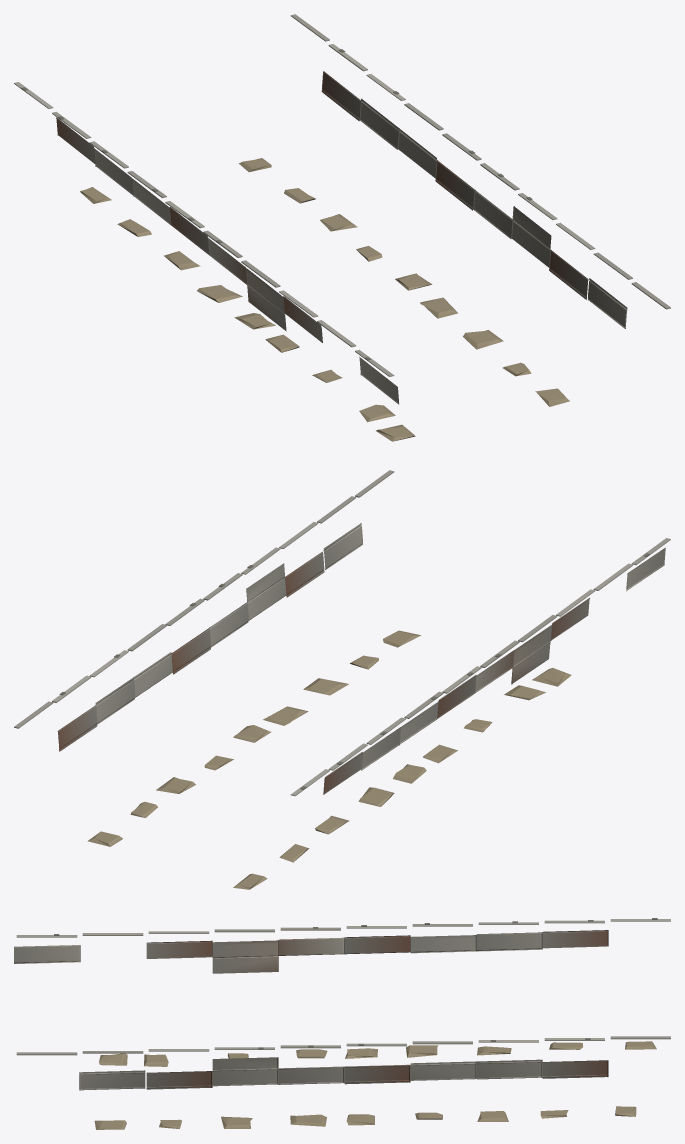
File: half_pipe_concrete_detail1.glb
3 views of the same model, one above another, from view 1: azimuth 30°, elevation 25°; view 2: azimuth 150°, elevation 25°; view 3: azimuth 270°, elevation 25° (orthographic). The views are drawn at different scales.
Visible parts, largest first — view 1: half_pipe_concrete_detail1; view 2: half_pipe_concrete_detail1; view 3: half_pipe_concrete_detail1.
Boxes of the visible parts, left/top/right/bottom form: half_pipe_concrete_detail1: left=14, top=14, right=670, bottom=441; half_pipe_concrete_detail1: left=14, top=470, right=670, bottom=889; half_pipe_concrete_detail1: left=14, top=918, right=670, bottom=1129.
Bounding box in the file's own units: 25.82 × 11.59 × 59.75.
